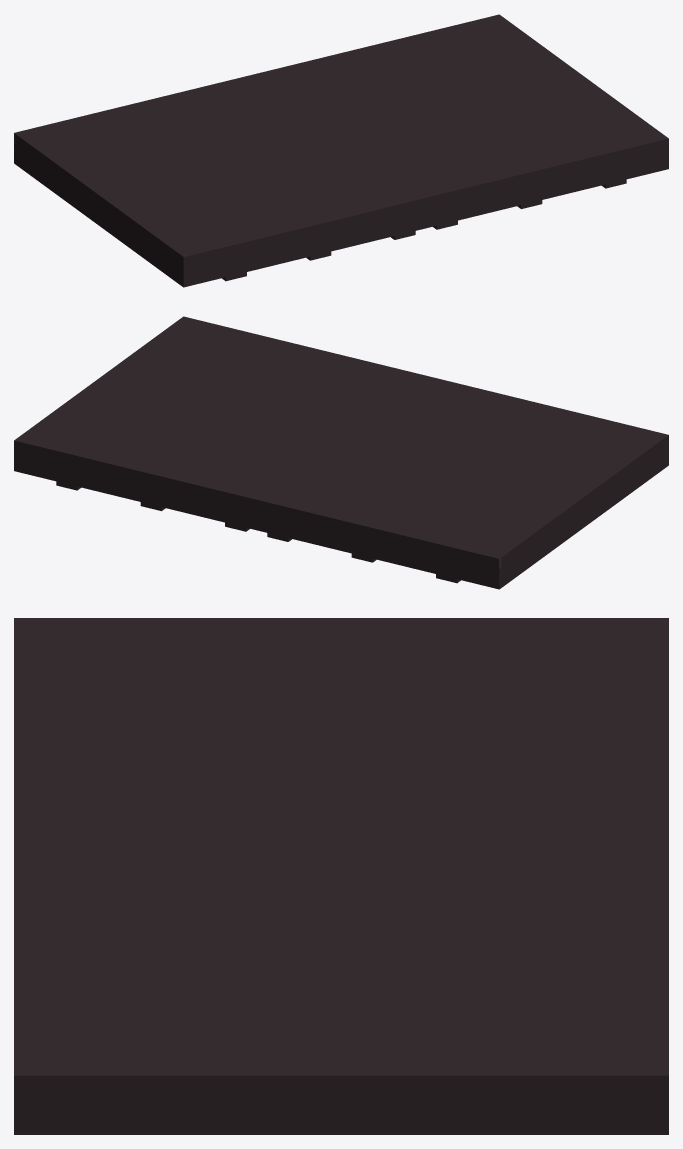
File: ceiling.fbx
3 renders of one model, top to bottom at view 1: azimuth 30°, elevation 25°; view 2: azimuth 150°, elevation 25°; view 3: azimuth 270°, elevation 25°, orthographic. The views are drawn at different scales.
Parts seen in each view (by area): view 1: floor.003; view 2: floor.003; view 3: floor.003.
Boxes of the visible parts, x1,y1,x2,y2 form: floor.003: (14,14,668,287); floor.003: (14,316,668,589); floor.003: (14,618,668,1134).
Bounding box in the file's own units: 7905 × 539 × 4782.
